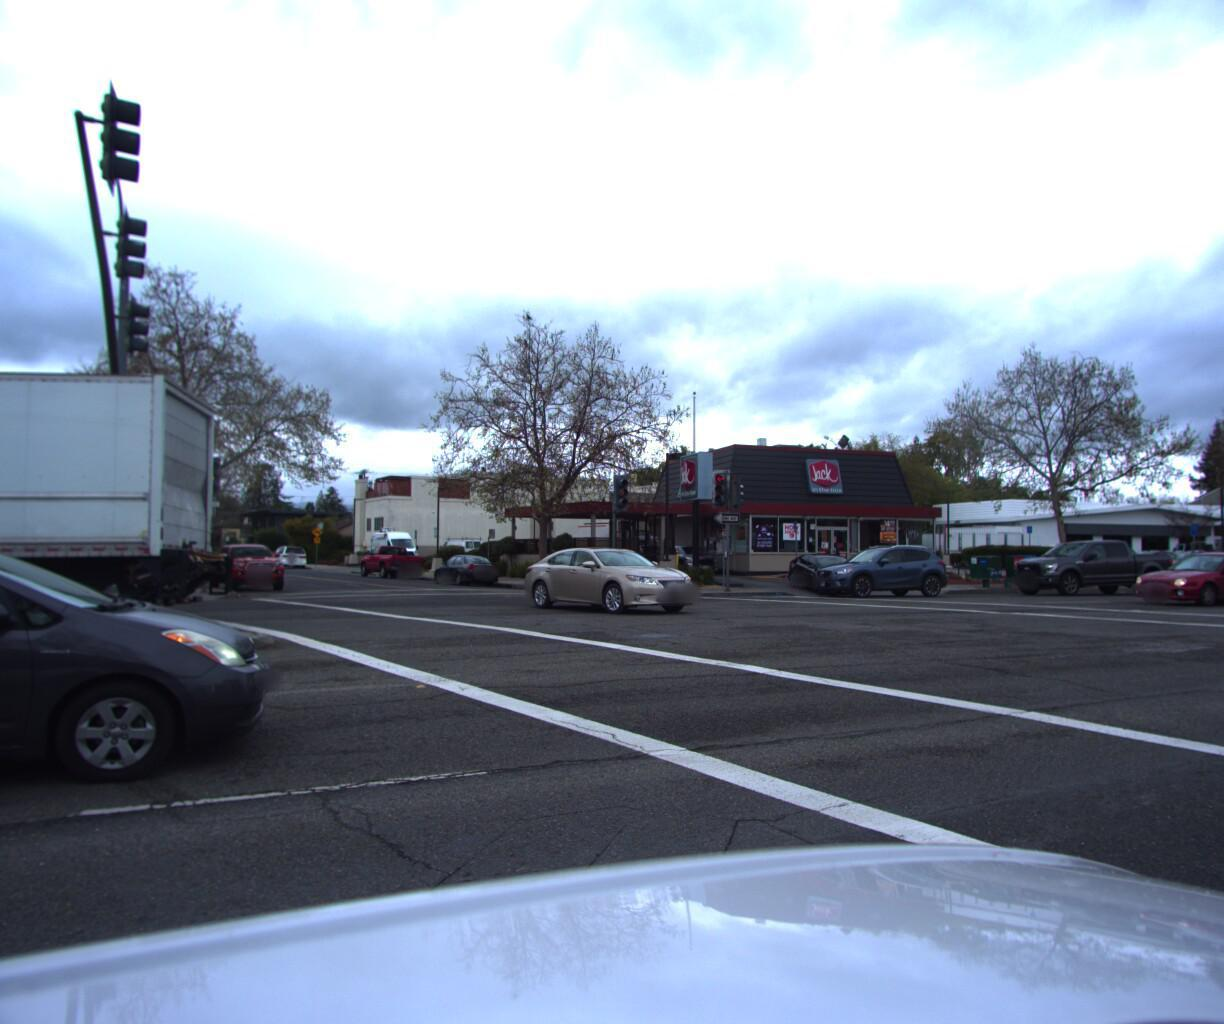car: (0, 474, 273, 867), (521, 549, 711, 624), (1001, 552, 1170, 604), (803, 547, 951, 603), (1122, 553, 1224, 611), (206, 550, 293, 600), (359, 550, 429, 590), (433, 560, 503, 597), (1142, 546, 1219, 575), (271, 551, 313, 576)
truck: (0, 326, 247, 650), (369, 535, 423, 573)
